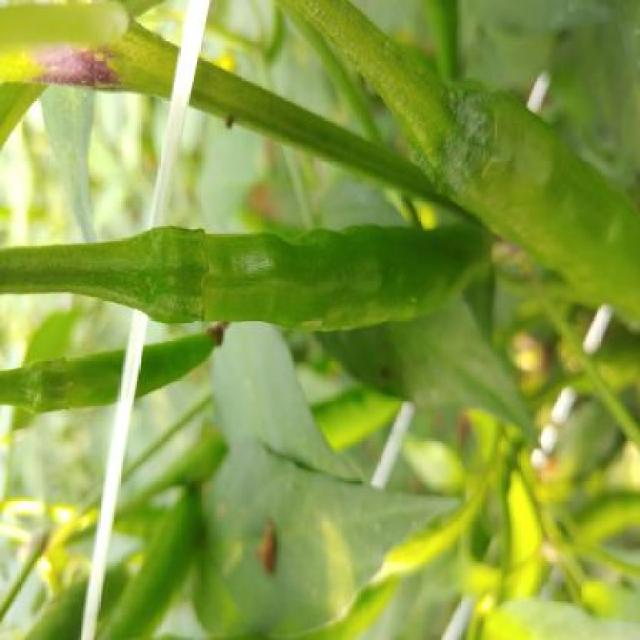green chilli: (146, 222, 489, 332)
